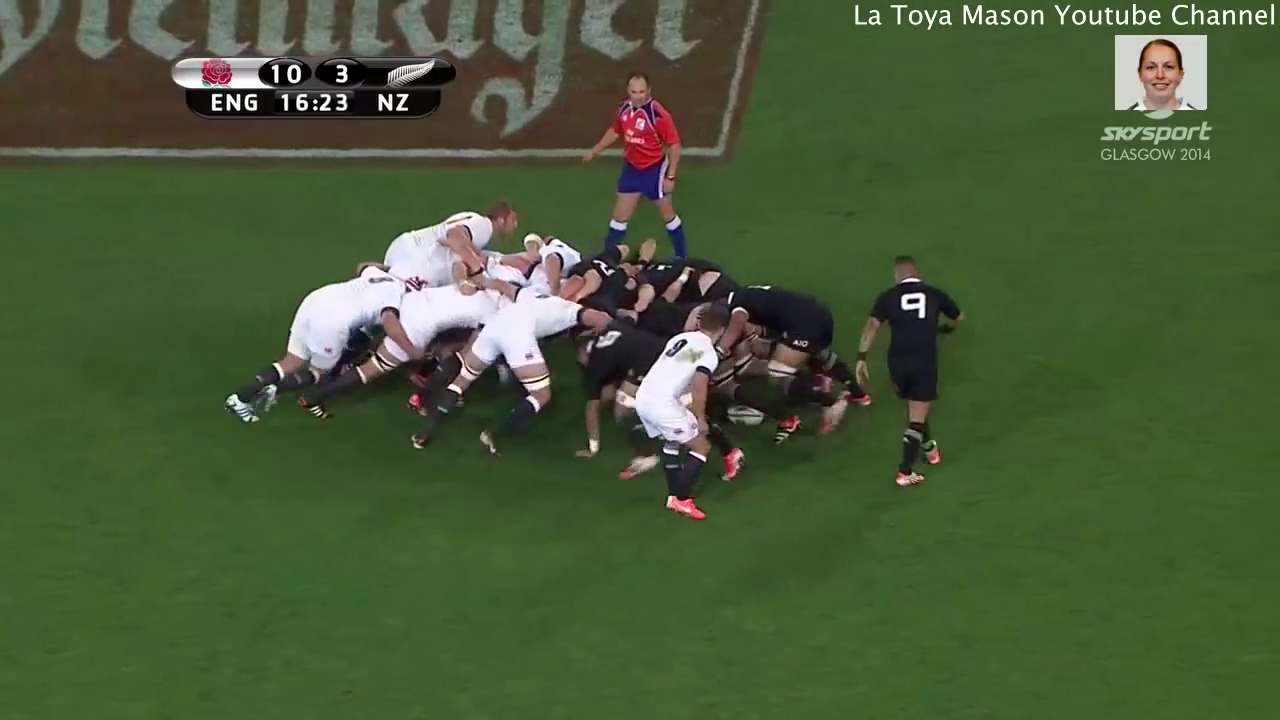player: (850, 232, 971, 501), (225, 273, 396, 431), (720, 282, 876, 448), (417, 296, 560, 463), (626, 306, 732, 526), (575, 71, 693, 263), (364, 201, 525, 277)
scrum: (206, 208, 879, 468)
